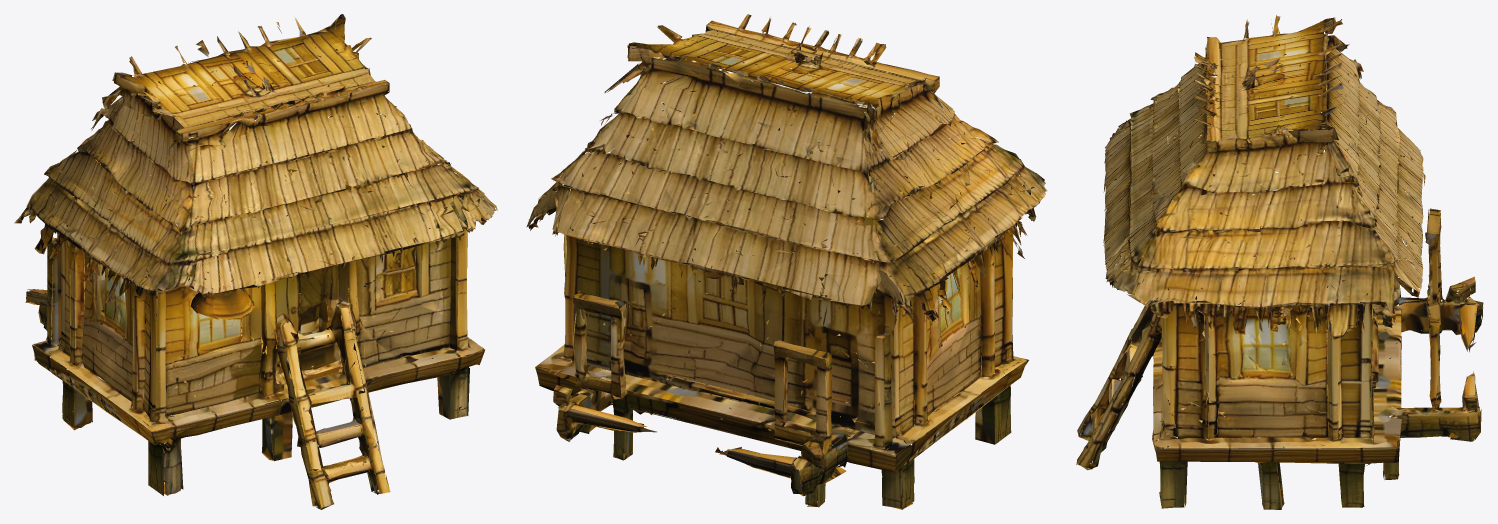
Rendered from turtle-prop-bahay-kubo.glb.
3 renders of one model, left to right at view 1: azimuth 30°, elevation 25°; view 2: azimuth 150°, elevation 25°; view 3: azimuth 270°, elevation 25°, orthographic. The views are drawn at different scales.
Visible parts, largest first — view 1: Mesh_0; view 2: Mesh_0; view 3: Mesh_0.
Boxes of the visible parts, x1,y1,x2,y2 form: Mesh_0: [14, 14, 497, 509]; Mesh_0: [526, 14, 1047, 509]; Mesh_0: [1076, 15, 1483, 509].
Bounding box in the file's own units: 0.2688 × 0.2604 × 0.2482.
Materials: 1 (1 with a texture image).
